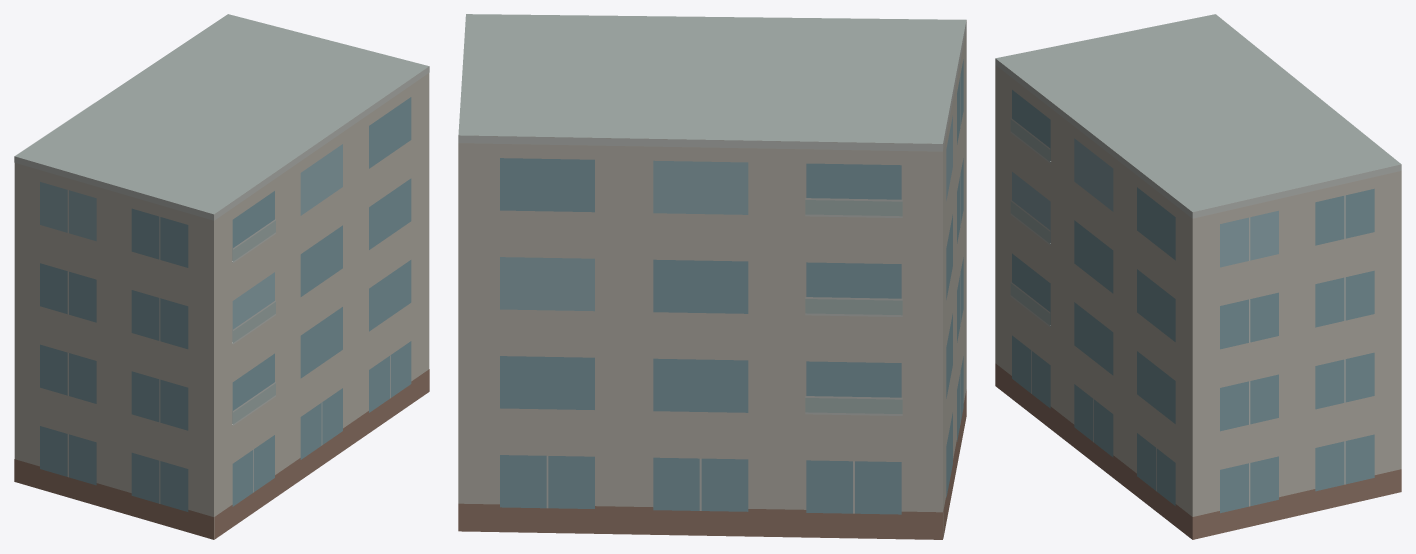
The model's file is survey-upis-33042616.glb.
3 views of the same model, side by side, from view 1: azimuth 30°, elevation 25°; view 2: azimuth 150°, elevation 25°; view 3: azimuth 270°, elevation 25° (orthographic). The views are drawn at different scales.
Visible parts, largest first — view 1: survey-upis-33042616.tmp; view 2: survey-upis-33042616.tmp; view 3: survey-upis-33042616.tmp.
Part boxes in pixels (bbox=[...]): survey-upis-33042616.tmp: bbox=[14, 14, 429, 539]; survey-upis-33042616.tmp: bbox=[458, 14, 966, 539]; survey-upis-33042616.tmp: bbox=[995, 14, 1401, 539].
Size of the model in its own units: 16.1 by 12.4 by 13.95.
